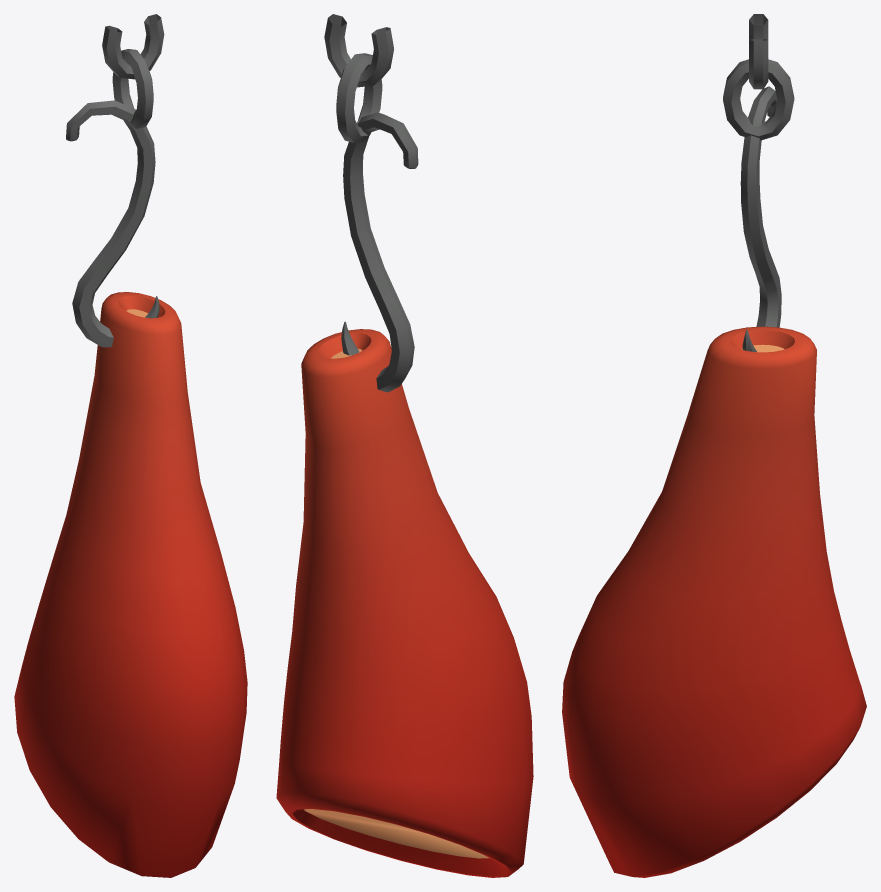
File: Meat_2.fbx
3 renders of one model, left to right at view 1: azimuth 30°, elevation 25°; view 2: azimuth 150°, elevation 25°; view 3: azimuth 270°, elevation 25°, orthographic. The views are drawn at different scales.
Parts seen in each view (by area): view 1: Meat_2; view 2: Meat_2; view 3: Meat_2.
Boxes of the visible parts, left/top/right/bottom form: Meat_2: left=14, top=14, right=247, bottom=877; Meat_2: left=276, top=14, right=533, bottom=877; Meat_2: left=562, top=14, right=866, bottom=877.
Size of the model in its own units: 19.4 by 81.86 by 26.56.
